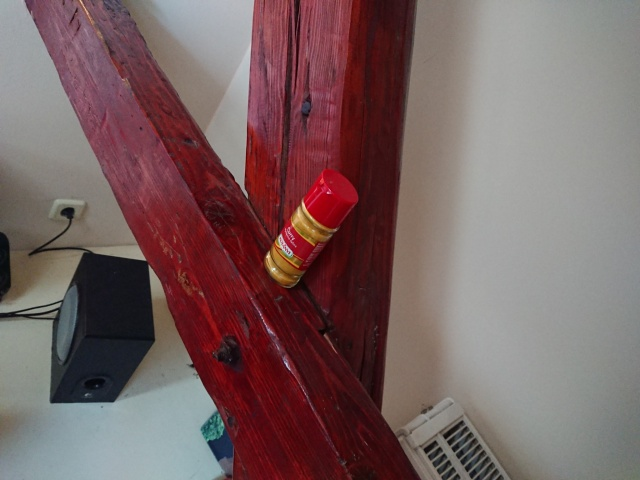Kotanyi Curry Spices Mix 70g: (262, 166, 360, 291)
